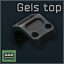Geissele Super Precision top ring cap DDC: (0, 0, 64, 64)
